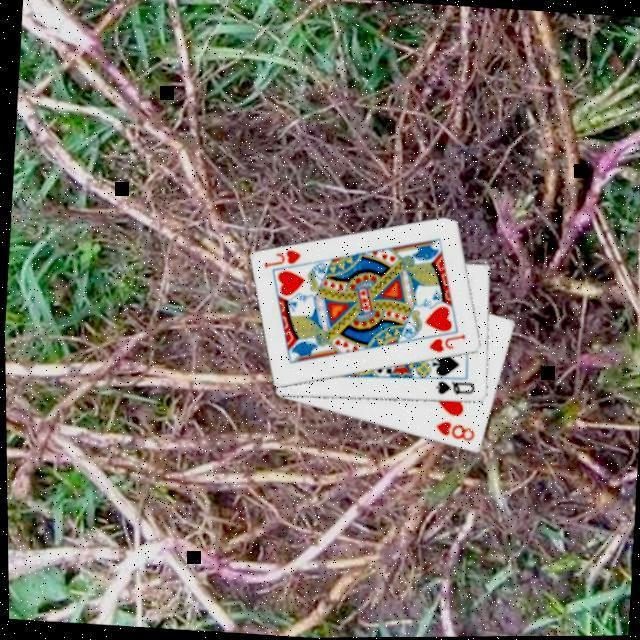8H: (427, 416, 475, 444)
JH: (421, 328, 465, 357), (257, 244, 301, 272)
QS: (428, 376, 474, 399)
